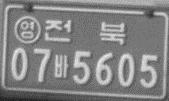0: (117, 52, 135, 88), (9, 47, 28, 81)
5: (72, 49, 91, 85), (138, 53, 157, 89)
6: (94, 52, 113, 86)
7: (32, 47, 51, 83)
바: (53, 53, 69, 79)
영: (13, 15, 40, 44)
전북_D: (44, 18, 125, 45)
